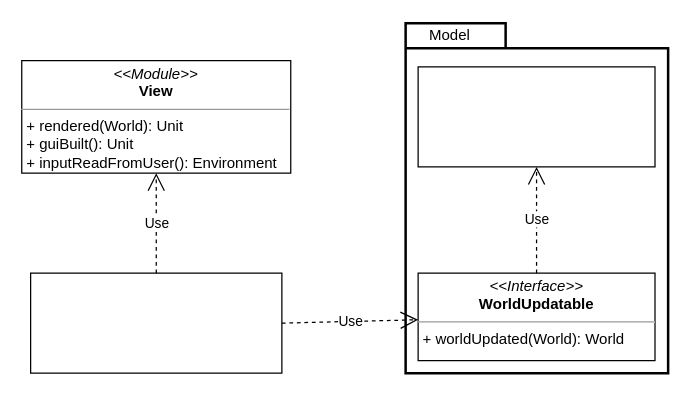
Image size: 691x395. Some labels were removed from this diagram. Each missing label, with the box of its shape:
<<Interface>> Simulable + collided(Entity): Entity + updated(World ): World: (417, 66, 655, 167)
<<Module>> Controller + gameLoop(World): World + start(): Unit: (29, 272, 282, 373)
